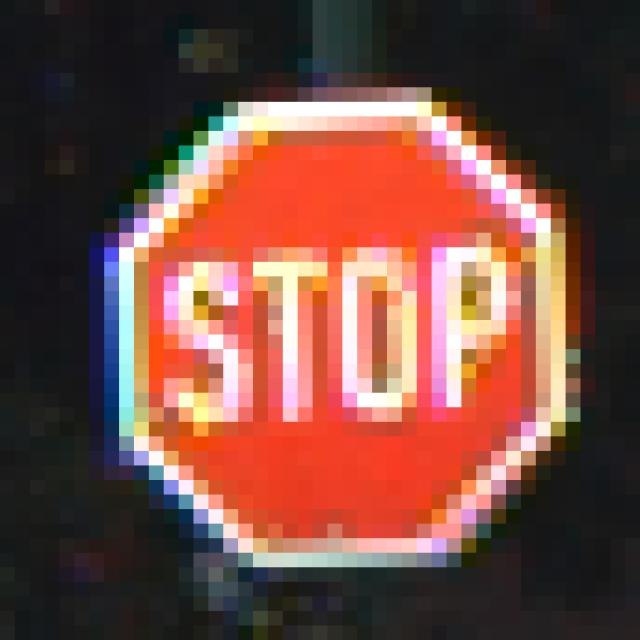STOP: (90, 89, 567, 569)
